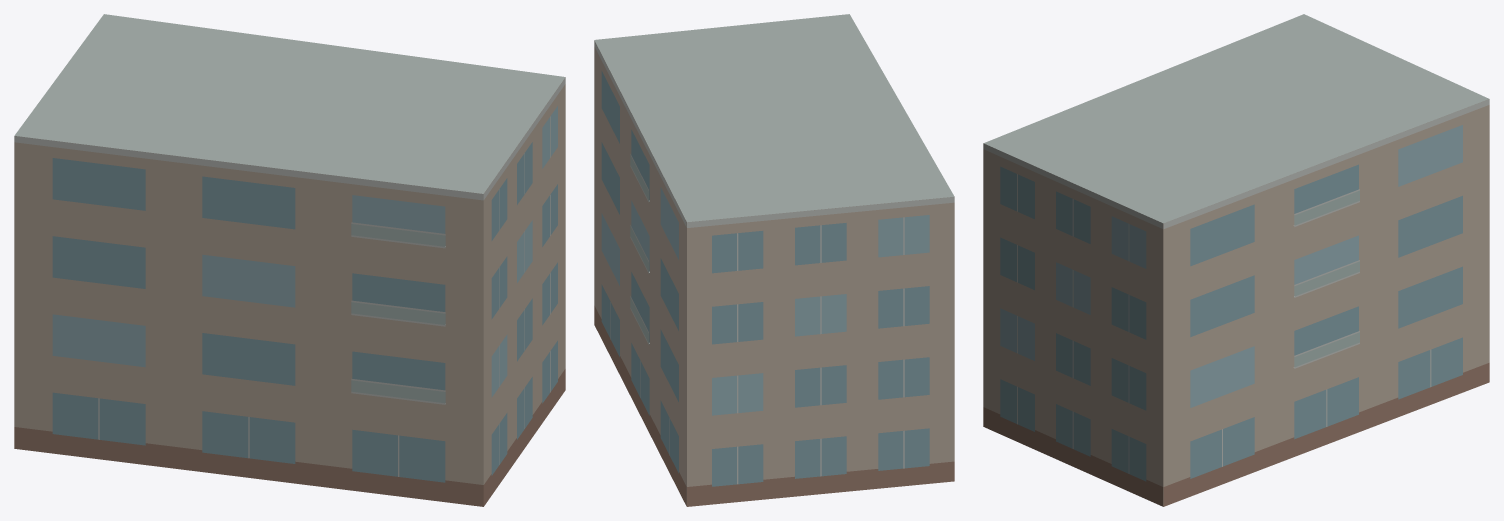
File: survey-upis-32815279.glb
3 views of the same model, side by side, from view 1: azimuth 30°, elevation 25°; view 2: azimuth 150°, elevation 25°; view 3: azimuth 270°, elevation 25° (orthographic). The views are drawn at different scales.
Parts seen in each view (by area): view 1: survey-upis-32815279.tmp; view 2: survey-upis-32815279.tmp; view 3: survey-upis-32815279.tmp.
Boxes of the visible parts, x1,y1,x2,y2 form: survey-upis-32815279.tmp: [14, 14, 565, 506]; survey-upis-32815279.tmp: [594, 14, 954, 506]; survey-upis-32815279.tmp: [983, 14, 1489, 506].
Size of the model in its own units: 18.63 by 11.75 by 19.02.
